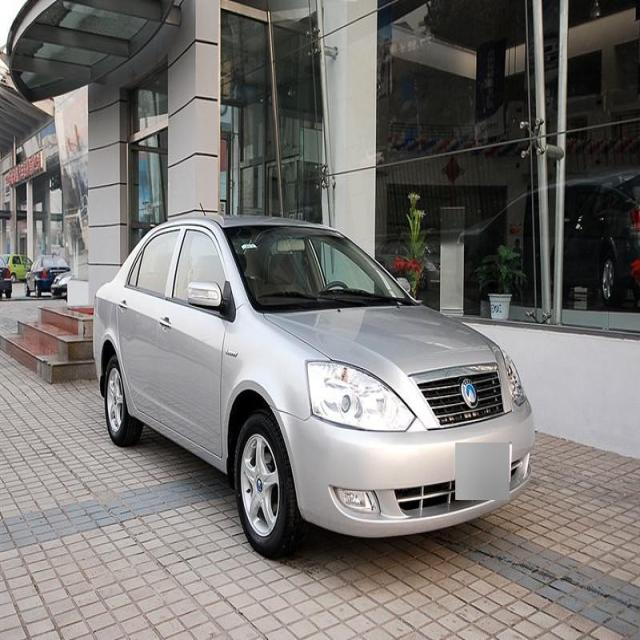door: (125, 227, 181, 416)
front_bumper: (274, 406, 536, 538)
front_glass: (222, 225, 418, 315)
front_left_side_mirror: (500, 350, 524, 407)
front_right_side_door: (156, 221, 234, 462)
front_right_side_light: (304, 356, 417, 434)
front_right_side_mirror: (186, 278, 227, 312)
wheel: (234, 414, 301, 556), (105, 356, 143, 444)
